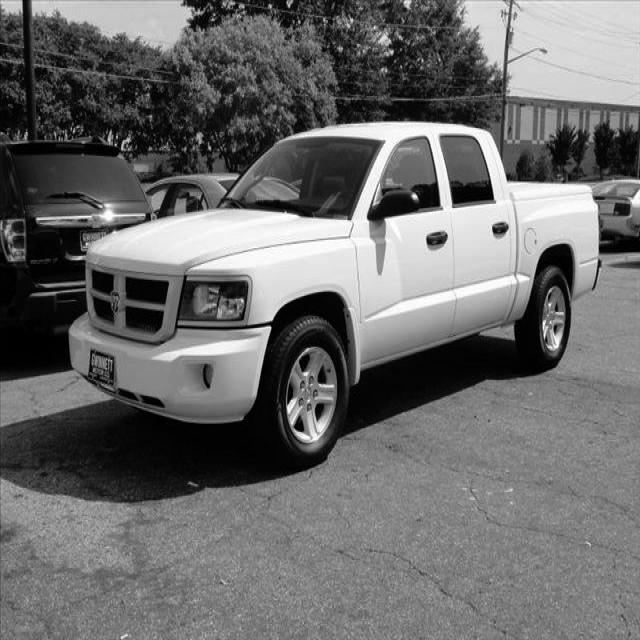car: (67, 119, 601, 468), (590, 178, 639, 245)
plat_license: (85, 343, 124, 388)
